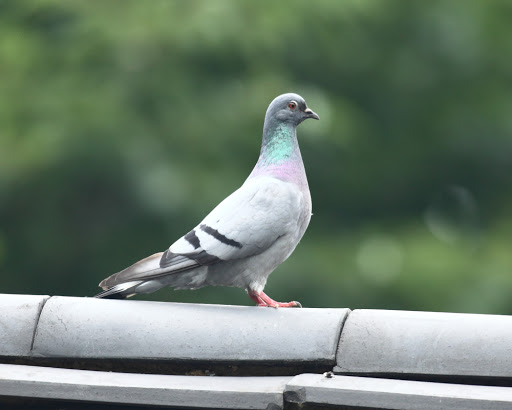pigeon: (76, 88, 344, 315)
